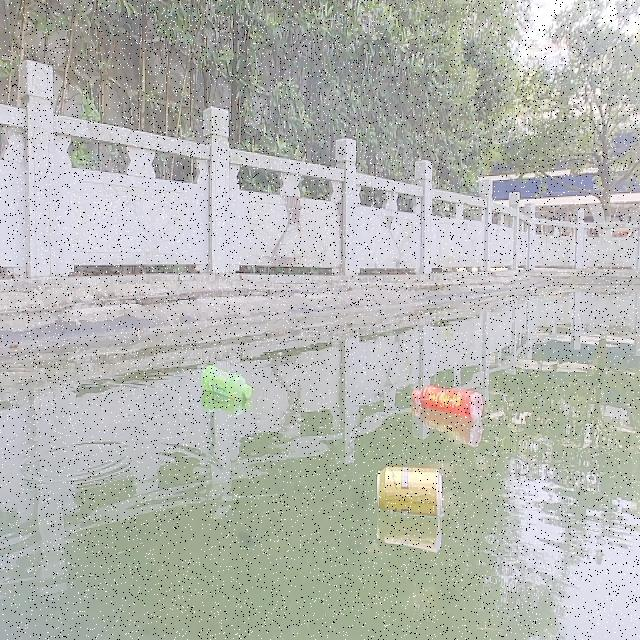Bottle: (406, 376, 482, 419), (199, 362, 254, 406)
Can: (370, 458, 444, 518)
